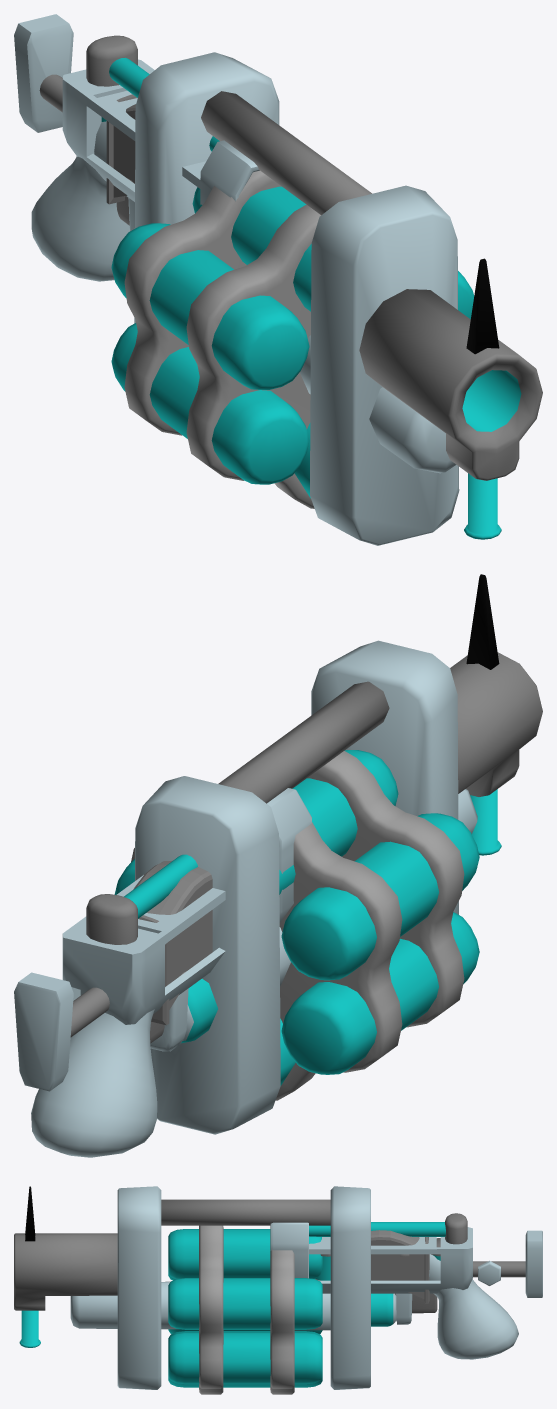
Rendered from gunsss.fbx.
3 views of the same model, one above another, from view 1: azimuth 30°, elevation 25°; view 2: azimuth 150°, elevation 25°; view 3: azimuth 270°, elevation 25° (orthographic). The views are drawn at different scales.
Parts seen in each view (by area): view 1: gun2, Cylinder.015, gun1, Cylinder.005; view 2: gun2, Cylinder.015, gun1, Cylinder.005; view 3: gun2, Cylinder.015, gun1, Cylinder.005.
Boxes of the visible parts, bbox=[...] form: gun2: bbox=[31, 52, 542, 545]; Cylinder.015: bbox=[111, 170, 474, 508]; gun1: bbox=[14, 14, 219, 231]; Cylinder.005: bbox=[200, 140, 259, 204]; gun2: bbox=[31, 574, 542, 1157]; Cylinder.015: bbox=[114, 750, 479, 1100]; gun1: bbox=[14, 854, 225, 1091]; Cylinder.005: bbox=[267, 788, 311, 922]; gun2: bbox=[14, 1186, 518, 1389]; Cylinder.015: bbox=[168, 1225, 322, 1394]; gun1: bbox=[309, 1213, 542, 1326]; Cylinder.005: bbox=[270, 1222, 308, 1278].
Bounding box in the file's own units: 0.4035 × 0.5416 × 1.26.
